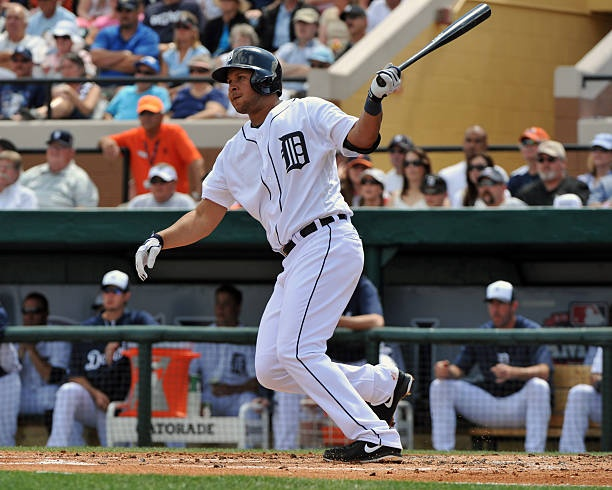bita: (379, 5, 492, 84)
